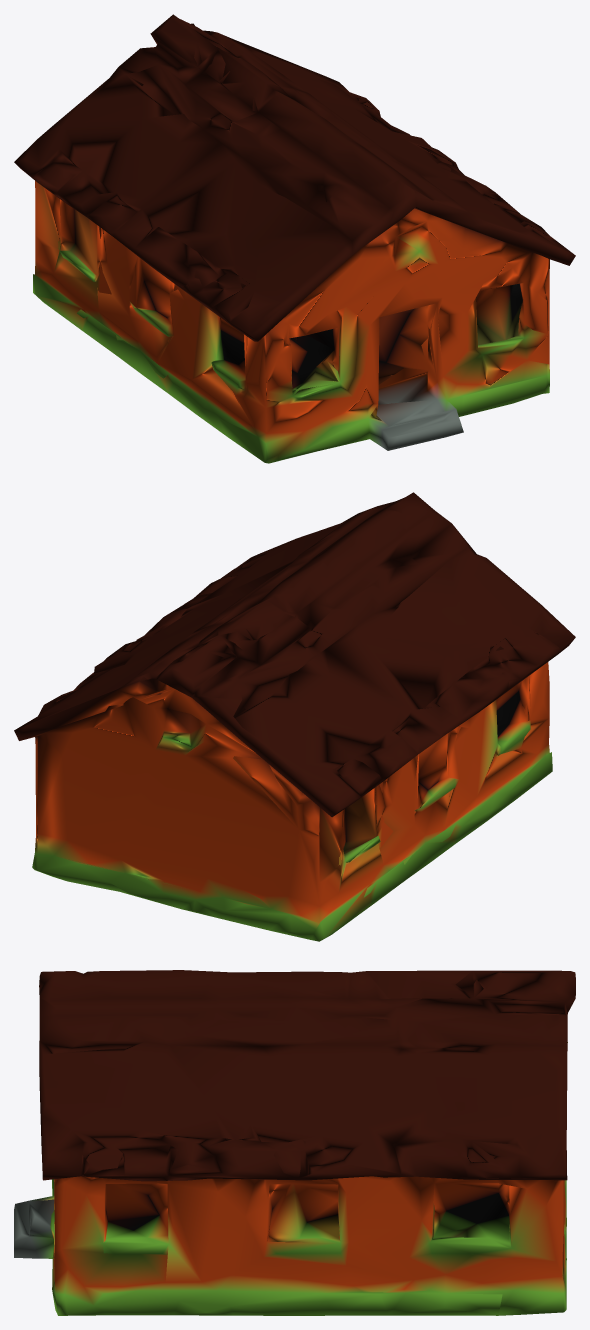
The model's file is gen3d-adobe-house-lod0.glb.
3 renders of one model, top to bottom at view 1: azimuth 30°, elevation 25°; view 2: azimuth 150°, elevation 25°; view 3: azimuth 270°, elevation 25°, orthographic. The views are drawn at different scales.
Visible parts, largest first — view 1: part_0; view 2: part_0; view 3: part_0.
Part boxes in pixels (x1,y1,x2,y2): part_0: (14, 14, 575, 463); part_0: (14, 492, 575, 941); part_0: (14, 970, 575, 1315).
Bounding box in the file's own units: 1.43 × 0.999 × 1.89.
